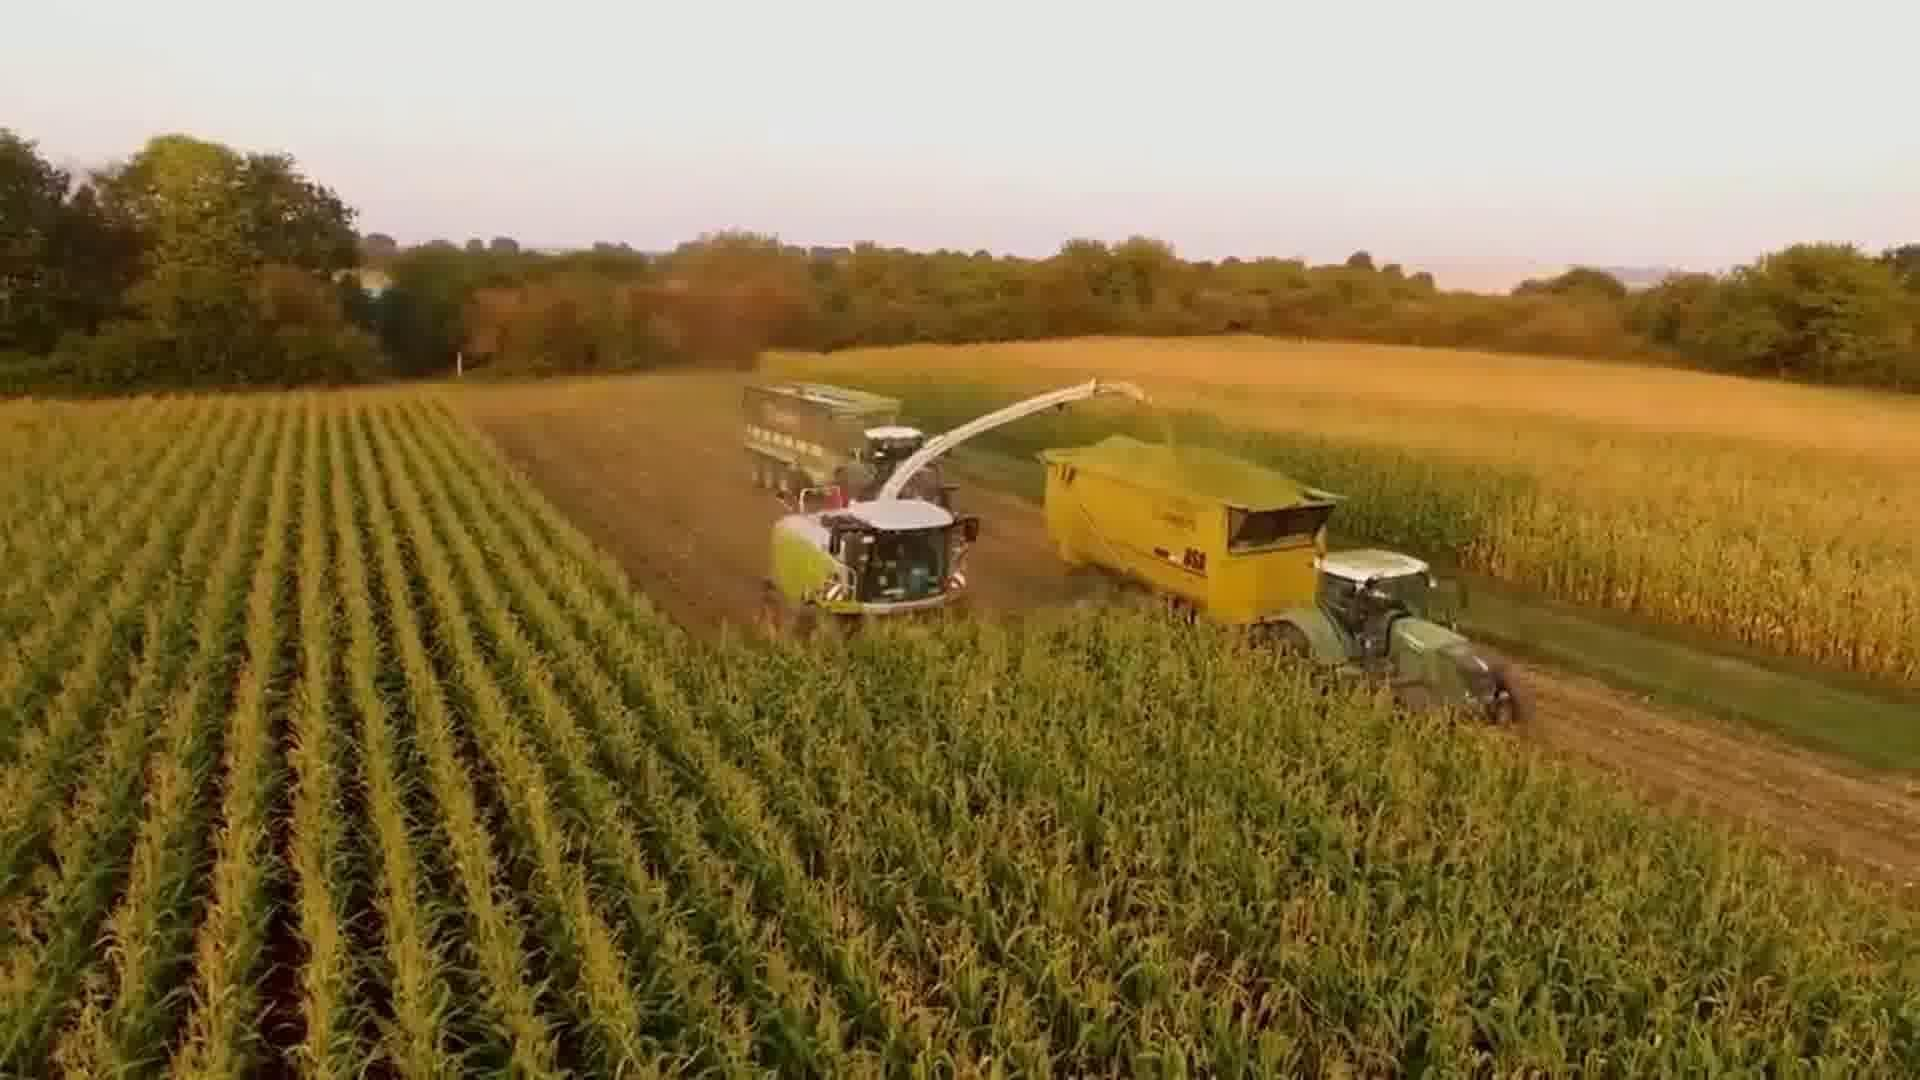combine harvester: (751, 371, 1110, 647)
tractor: (1237, 536, 1541, 741), (831, 417, 959, 506)
trailer: (1031, 426, 1343, 656), (739, 376, 910, 499)
